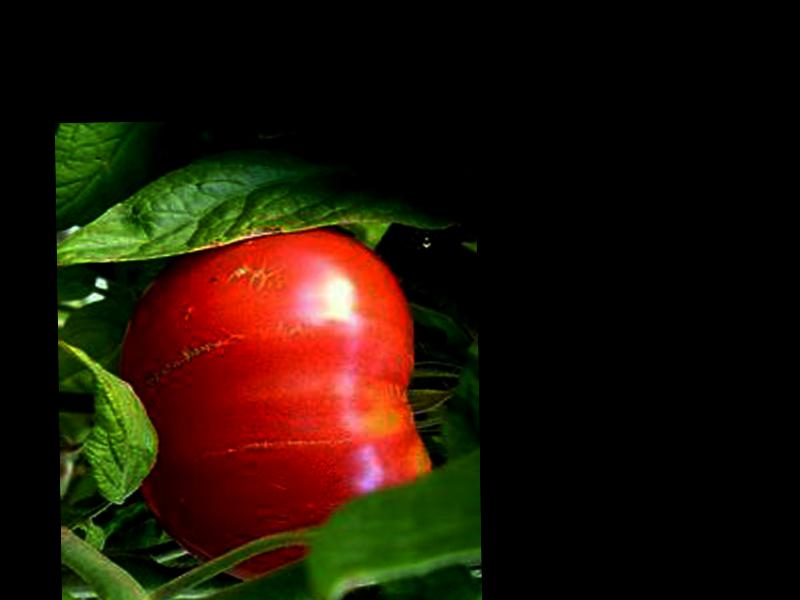Tomato: (119, 223, 435, 580)
